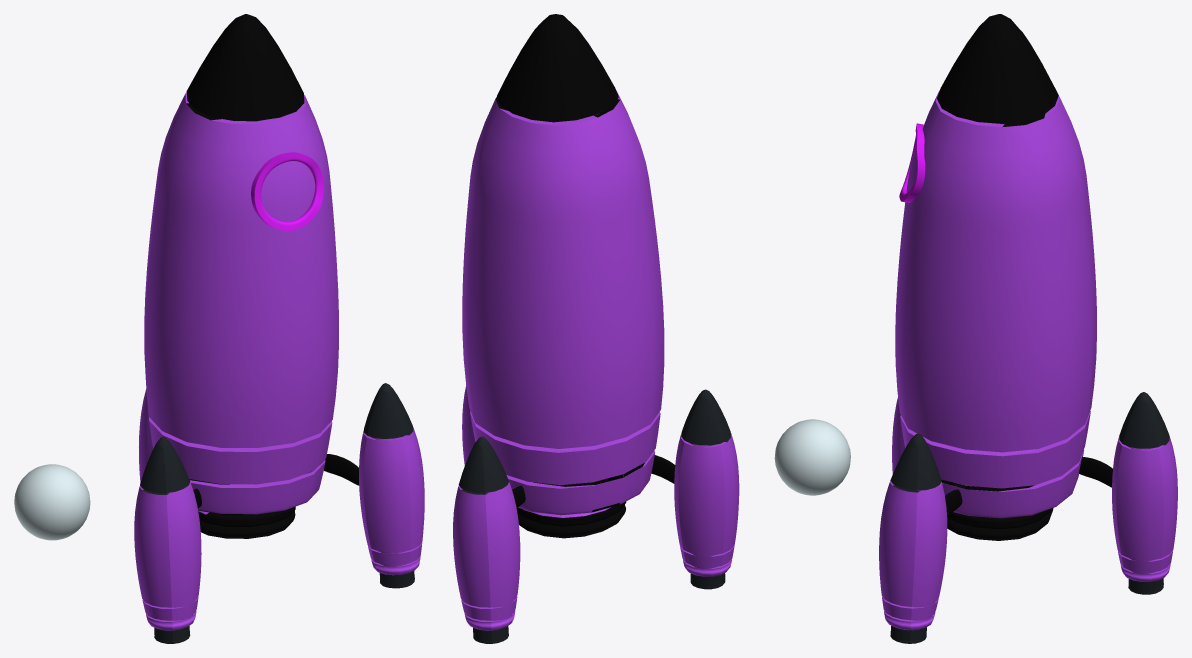
Rendered from rocket.glb.
3 views of the same model, side by side, from view 1: azimuth 30°, elevation 25°; view 2: azimuth 150°, elevation 25°; view 3: azimuth 270°, elevation 25° (orthographic).
Parts seen in each view (by area): view 1: Cube, Cube.001, Cube.008, Sphere, Circle, Cube.006, Cube.007; view 2: Cube, Cube.006, Cube.001, Sphere, Cube.008; view 3: Cube, Cube.008, Cube.006, Circle, Cube.005, Cube.001.
Boxes of the visible parts, x1,y1,x2,y2 form: Cube: (144, 14, 338, 538); Cube.001: (134, 437, 201, 643); Cube.008: (359, 383, 424, 588); Sphere: (14, 464, 90, 540); Circle: (251, 152, 323, 230); Cube.006: (139, 389, 152, 482); Cube.007: (320, 454, 358, 485); Cube: (462, 14, 664, 538); Cube.006: (453, 436, 520, 643); Cube.001: (674, 389, 739, 589); Sphere: (774, 419, 850, 495); Cube.008: (462, 385, 475, 465); Cube: (895, 14, 1096, 540); Cube.008: (879, 433, 947, 643); Cube.006: (1112, 392, 1177, 594); Circle: (899, 123, 925, 202); Cube.005: (1079, 457, 1112, 487); Cube.001: (892, 398, 905, 473).
Size of the model in its own units: 5.15 by 7.16 by 3.36.
